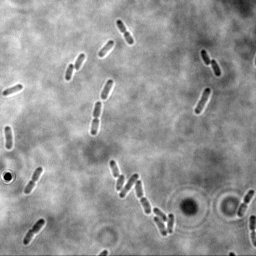Dividing: (22, 217, 47, 246), (23, 166, 45, 196), (134, 180, 152, 216), (236, 187, 256, 219), (115, 18, 137, 47), (89, 100, 103, 136), (247, 214, 256, 249), (209, 58, 223, 79), (199, 48, 211, 66)
Rod: (193, 86, 214, 115), (118, 172, 140, 199), (96, 38, 117, 60), (99, 77, 116, 102), (151, 216, 169, 238), (1, 83, 25, 98), (73, 52, 87, 73), (3, 125, 14, 151), (152, 206, 168, 223), (63, 62, 76, 82), (108, 159, 121, 179), (166, 212, 176, 236), (115, 173, 125, 193)
